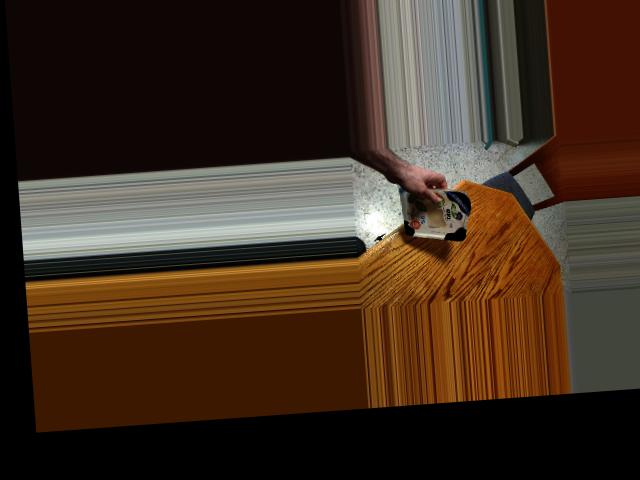cheese: (384, 184, 476, 244)
